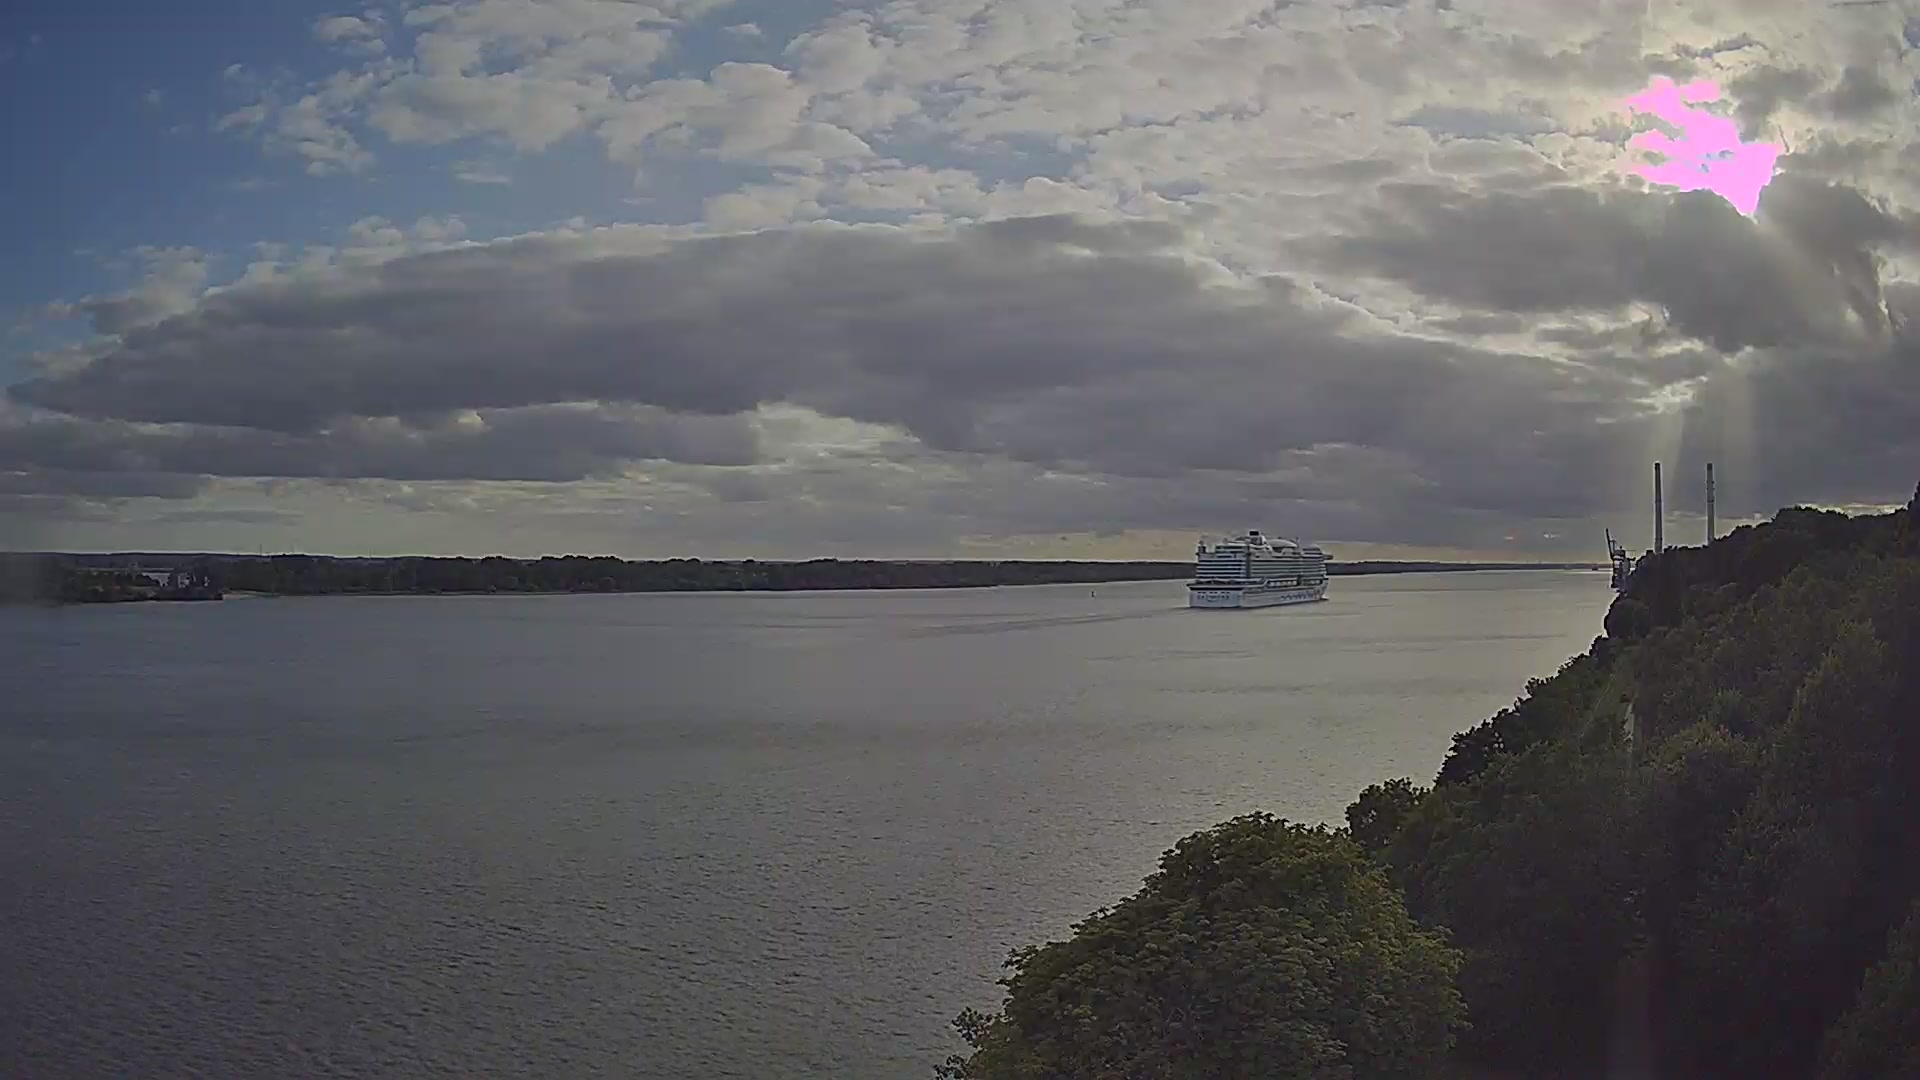sea: (1185, 527, 1333, 611), (1590, 563, 1600, 572)
